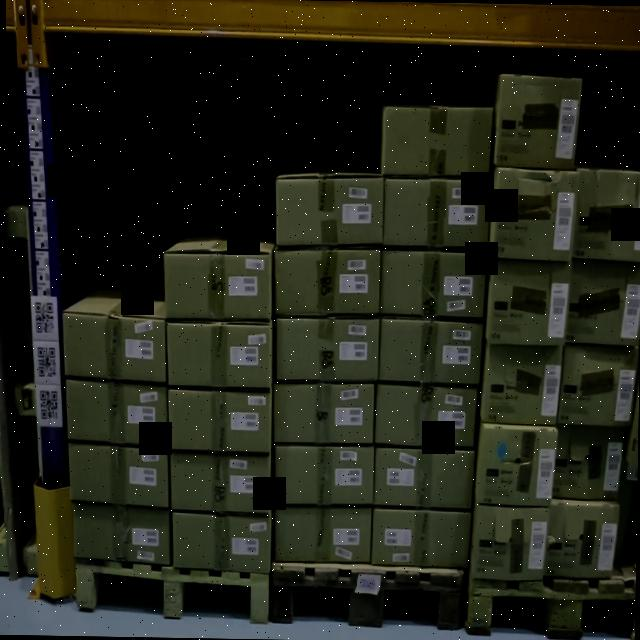box: (384, 108, 488, 177), (275, 248, 380, 316), (384, 179, 490, 246), (165, 252, 271, 318), (276, 178, 382, 242), (169, 388, 270, 454), (502, 74, 575, 165), (557, 345, 639, 426), (64, 314, 165, 379), (380, 253, 484, 316), (494, 172, 572, 256), (276, 318, 378, 382), (566, 258, 640, 345), (168, 323, 270, 386), (488, 261, 566, 343), (379, 321, 482, 383), (67, 382, 168, 444), (574, 170, 640, 260), (276, 446, 373, 506), (544, 502, 620, 578), (374, 389, 474, 446), (274, 384, 372, 442), (374, 450, 472, 508), (372, 512, 471, 568), (174, 514, 269, 570), (553, 425, 625, 498), (172, 456, 269, 510), (486, 347, 558, 418), (472, 507, 544, 578), (479, 430, 552, 500), (274, 509, 370, 562), (71, 449, 167, 501), (74, 510, 169, 558)
